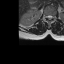CCS_normal: (48, 13, 50, 21)
LFS_normal: (52, 15, 54, 19)
LLS_normal: (50, 13, 52, 20)
RFS_normal: (45, 14, 46, 19)
RLS_normal: (46, 14, 48, 19)
